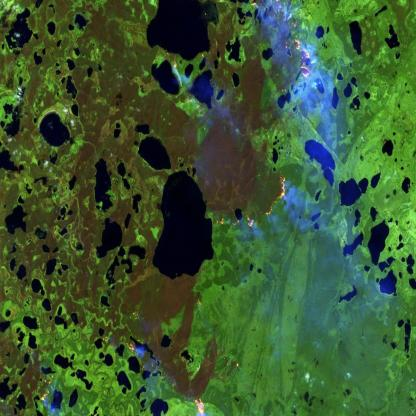fire: (214, 164, 294, 242), (250, 0, 319, 82), (168, 53, 200, 122), (33, 370, 62, 413), (120, 326, 149, 366), (180, 385, 213, 416)
